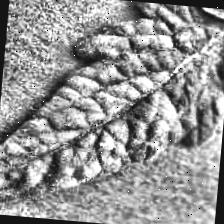leaf mold: (0, 0, 224, 221)
